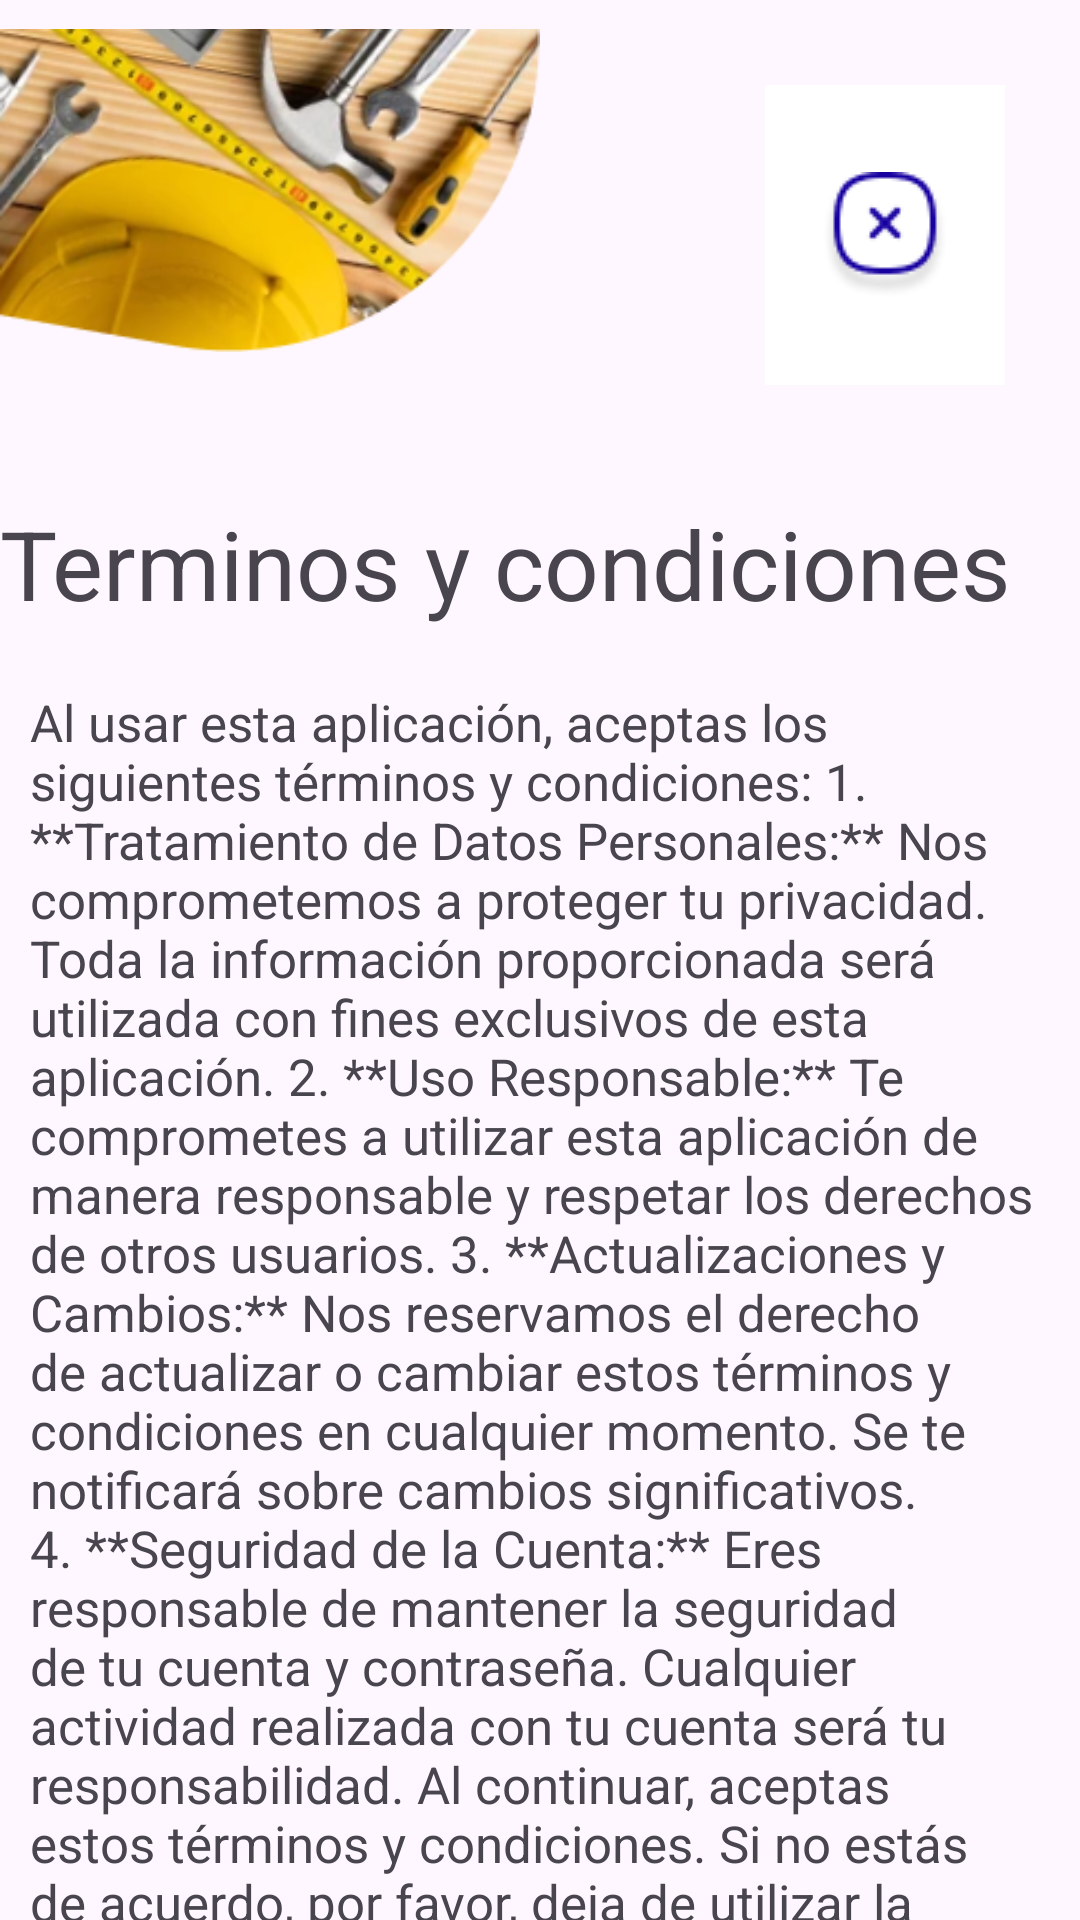

Locate icon controls on the screen. Image size 1080px x 1920px, boxes as (x1, y1, x2, y2).
cerrar: (833, 172, 937, 285)
